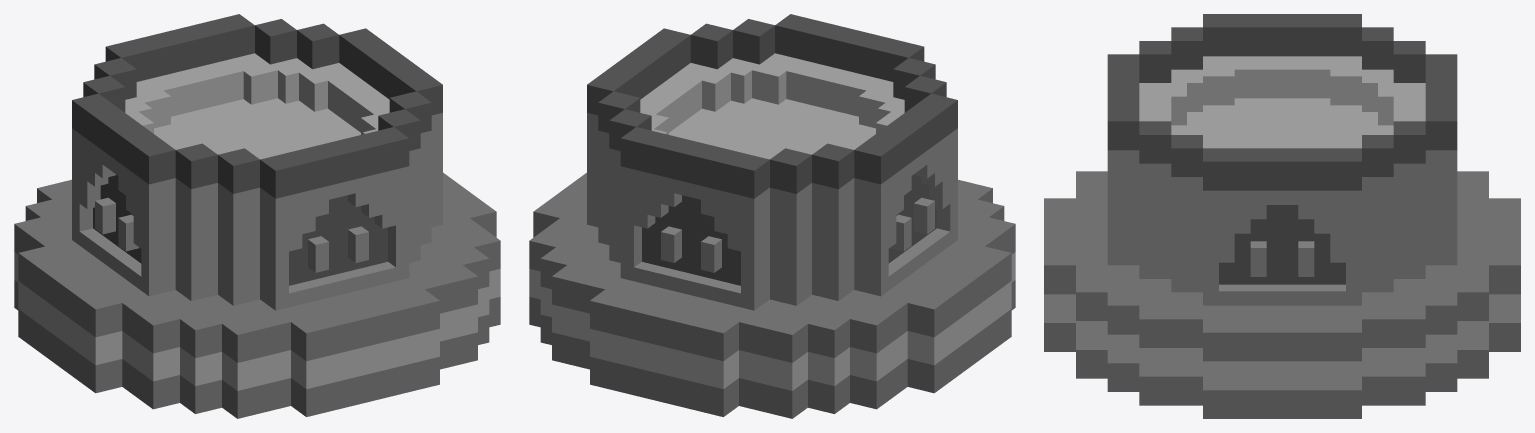
The model's file is small altar.obj.
3 views of the same model, side by side, from view 1: azimuth 30°, elevation 25°; view 2: azimuth 150°, elevation 25°; view 3: azimuth 270°, elevation 25° (orthographic). The views are drawn at different scales.
Bounding box in the file's own units: 3 × 1.6 × 3.
Materials: 1 (1 with a texture image).
